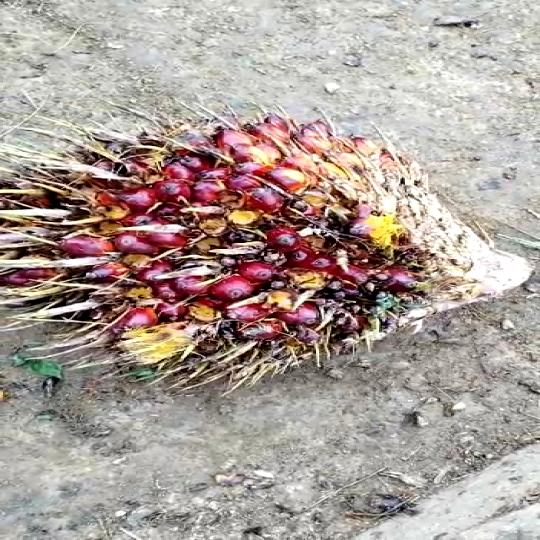masak: (12, 113, 526, 392)
